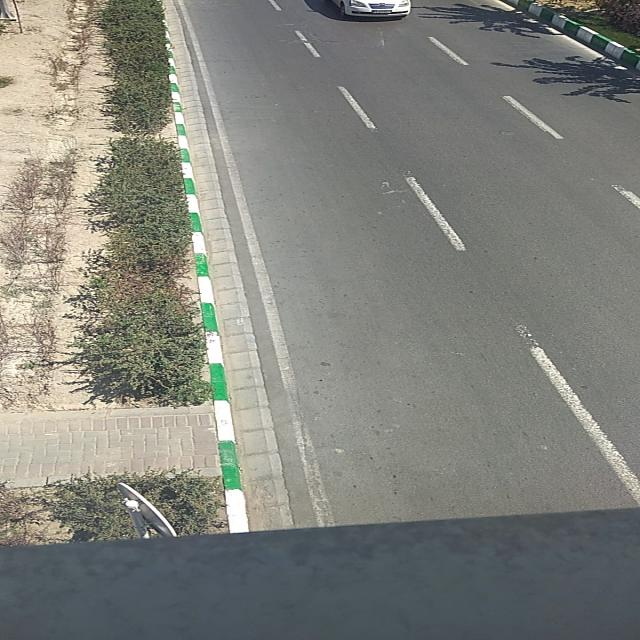car: (327, 1, 412, 16)
